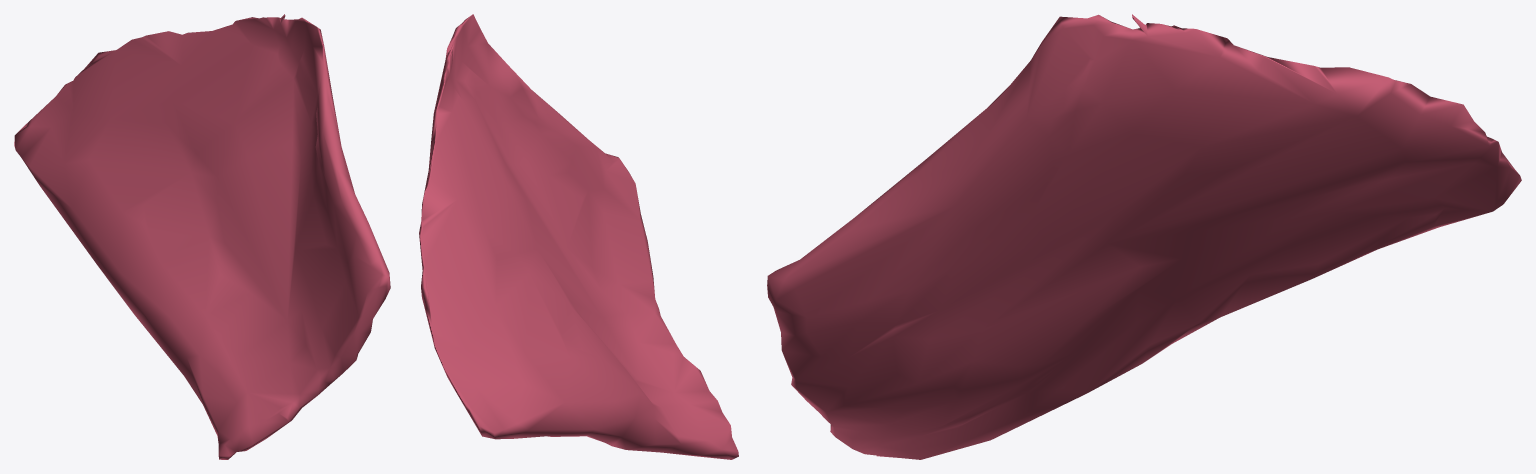
The picture shows the model from 3 angles, left to right: view 1: azimuth 30°, elevation 25°; view 2: azimuth 150°, elevation 25°; view 3: azimuth 270°, elevation 25°; orthographic projection. The views are drawn at different scales.
Visible parts, largest first — view 1: 左侧甲状舌骨肌; view 2: 左侧甲状舌骨肌; view 3: 左侧甲状舌骨肌.
Boxes of the visible parts, x1=… form: 左侧甲状舌骨肌: x1=14, y1=14, x2=390, y2=459; 左侧甲状舌骨肌: x1=419, y1=14, x2=738, y2=459; 左侧甲状舌骨肌: x1=767, y1=14, x2=1521, y2=459.
Size of the model in its own units: 0.0181 by 0.0369 by 0.0454.
